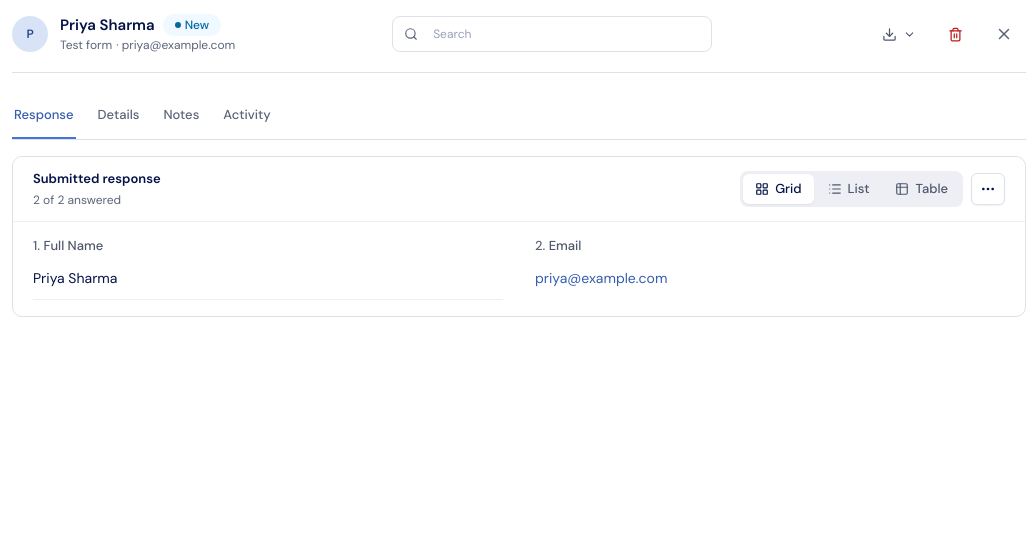
Scenario: ResponseDrawer layouts, full-screen page and keyboard › full-screen page › below 1024px the search belongs to the Response tab only
Expected: the heading "Submitted response" is shown, 33,169 -> 161,189
Expected: the search field named "Search in response" is shown, 392,16 -> 712,52
Click the tab "Details". click: (118, 116)
box: 96,93 -> 141,139
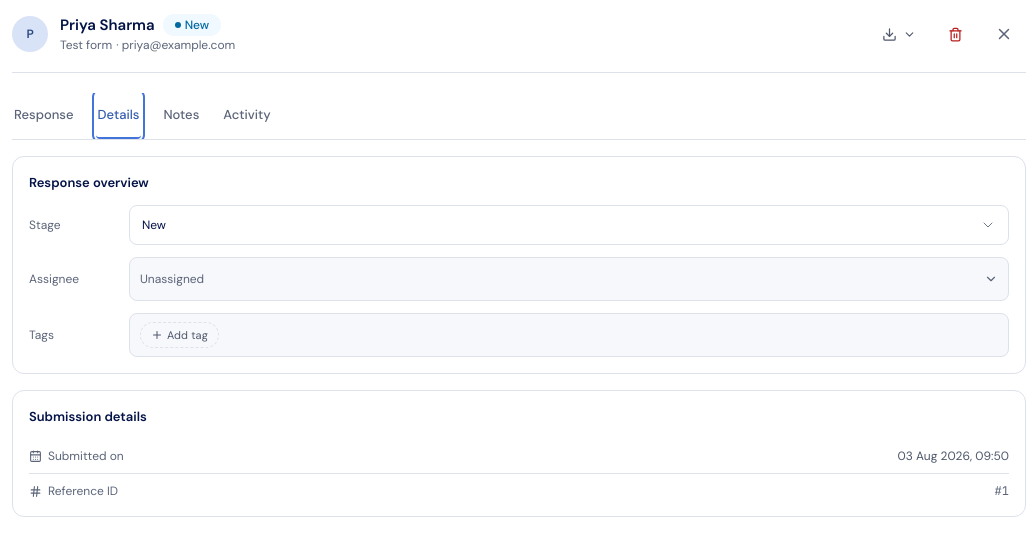
Click the tab "Response". click: (44, 116)
box: 12,93 -> 76,139
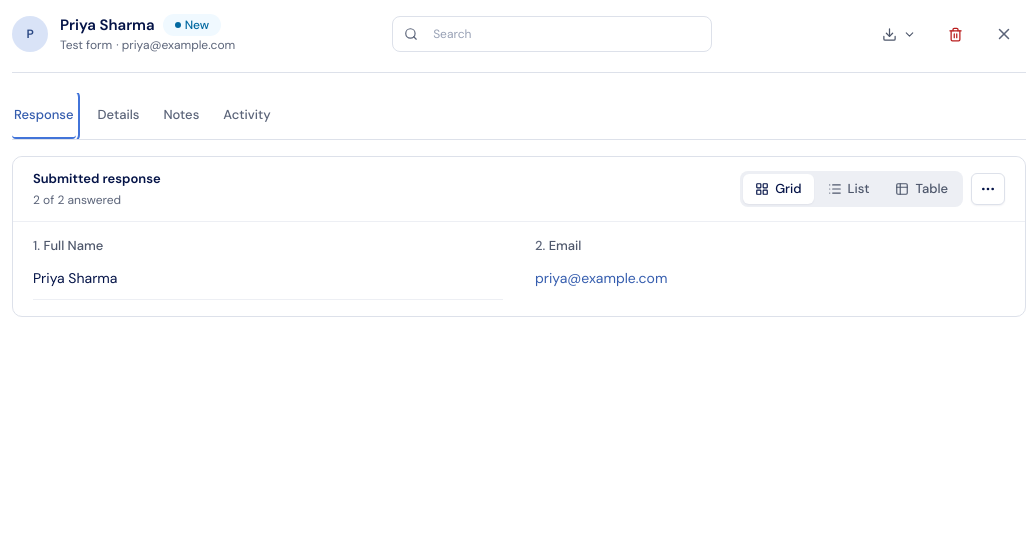
Now the search field named "Search in response" is shown, box 392,16 -> 712,52
